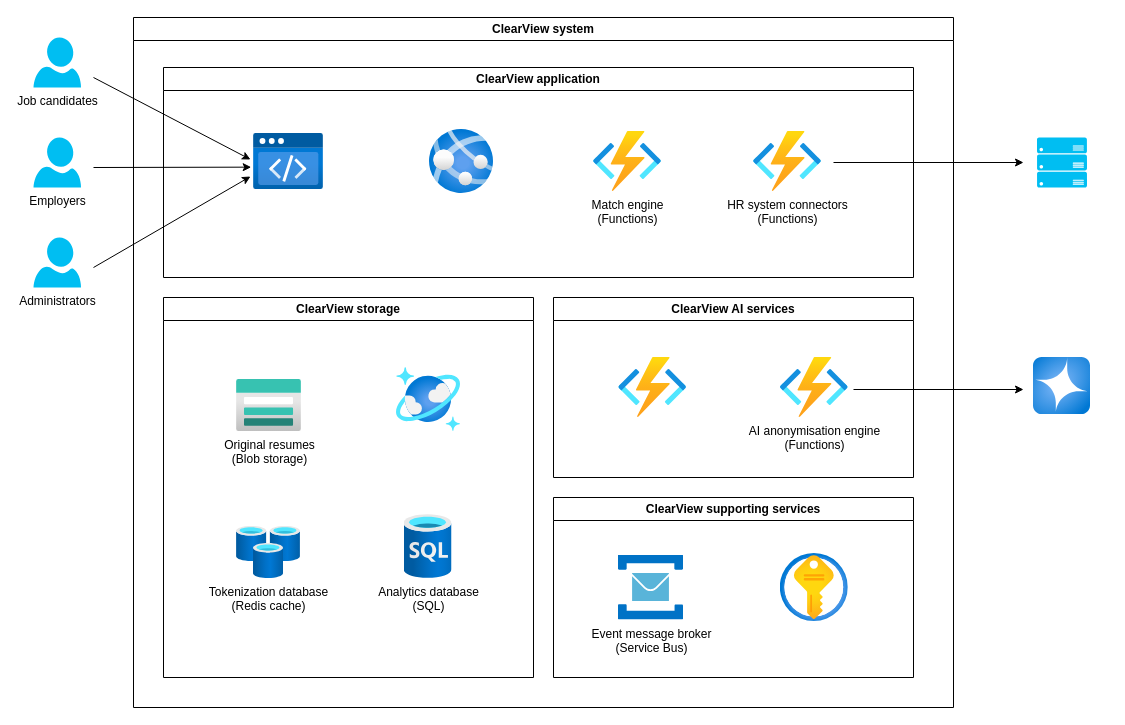
Image size: 1125x725. Some labels were removed from this diagram. The shapes that lost their labels are listed below. From the top down, each one's centre as x and y in pixels, then its label:
(x=288, y=161): ClearView frontend (Static App or App Service)
(x=461, y=161): ClearView backend (App Service)
(x=1061, y=162): Employer's HR system
(x=428, y=399): System database (SQL or document)
(x=652, y=387): AI tips engine (Functions)
(x=1061, y=385): Third party AI services provider
(x=814, y=587): Encryption key store (Key Vault)
